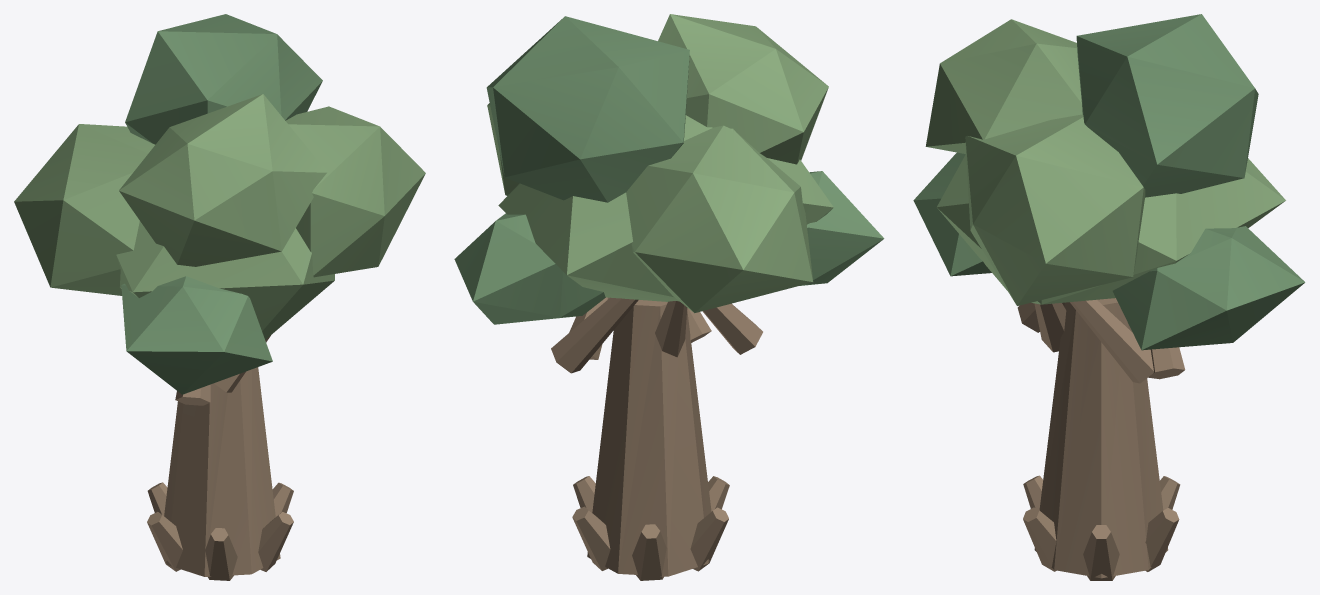
3 renders of one model, left to right at view 1: azimuth 30°, elevation 25°; view 2: azimuth 150°, elevation 25°; view 3: azimuth 270°, elevation 25°, orthographic. The views are drawn at different scales.
Parts seen in each view (by area): view 1: landmark.world_tree; view 2: landmark.world_tree; view 3: landmark.world_tree.
Boxes of the visible parts, x1,y1,x2,y2 form: landmark.world_tree: [14, 14, 425, 580]; landmark.world_tree: [454, 14, 884, 580]; landmark.world_tree: [913, 14, 1305, 580].
Size of the model in its own units: 26.6 by 37.08 by 24.65.
